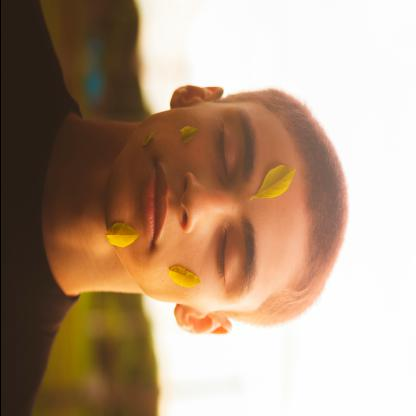Eye: (216, 122, 239, 181), (217, 225, 237, 288)
Mouth: (139, 155, 170, 253)
Nose: (178, 172, 228, 233)
